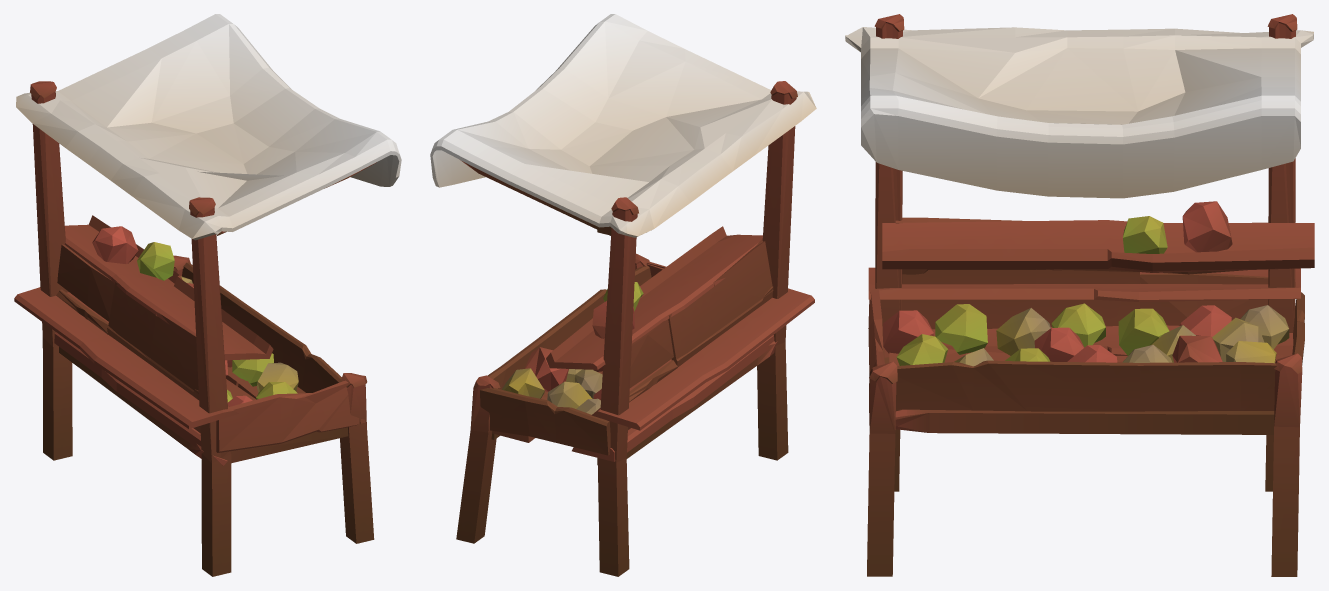
Rendered from marketstand_white.glb.
The picture shows the model from 3 angles, left to right: view 1: azimuth 30°, elevation 25°; view 2: azimuth 150°, elevation 25°; view 3: azimuth 270°, elevation 25°; orthographic projection. The views are drawn at different scales.
Visible parts, largest first — view 1: MarketStand_White_mesh1; view 2: MarketStand_White_mesh1; view 3: MarketStand_White_mesh1.
Part boxes in pixels (<box>): MarketStand_White_mesh1: <box>14,14,401,576</box>; MarketStand_White_mesh1: <box>430,14,816,576</box>; MarketStand_White_mesh1: <box>845,14,1314,576</box>.
Bounding box in the file's own units: 1.89 × 3.35 × 2.91.
Materials: 1 (1 with a texture image).
